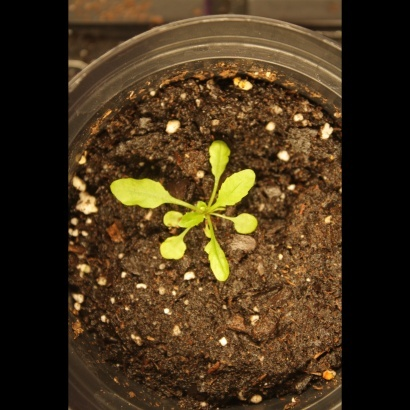leaf: (105, 172, 174, 211), (210, 165, 260, 213), (199, 132, 232, 183), (202, 235, 235, 283), (156, 231, 194, 265), (232, 210, 270, 242), (179, 208, 211, 231), (161, 207, 184, 230)
